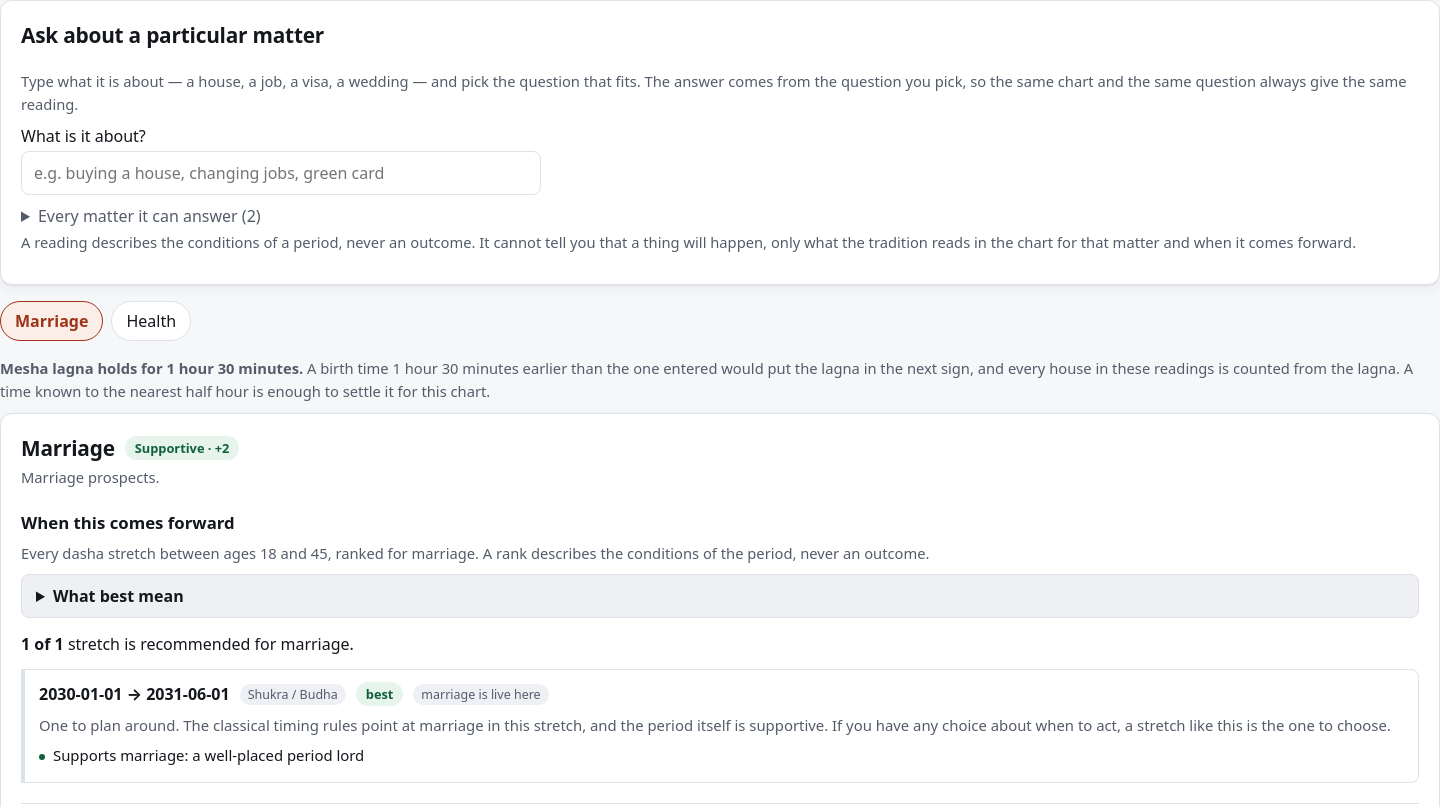
asking a question from the readings page › says nothing matched rather than answering a different question
The image size is (1440, 807).
Step 1. Type "qwertyuiop" into the field labelled "What is it about?" → [281, 173], box [21,151,541,195]
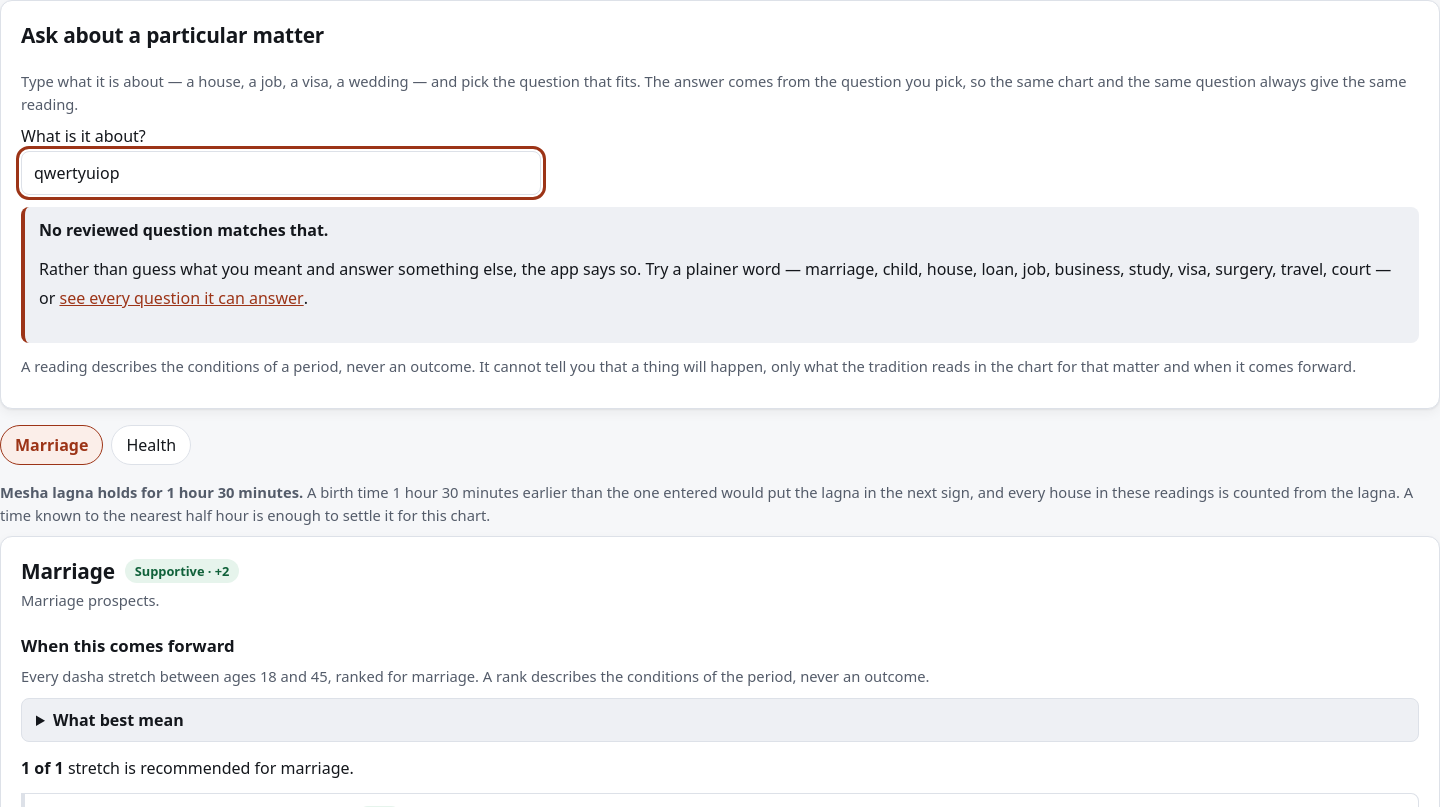
Now the text "No reviewed question matches that." is shown, box [39,219,328,241]
